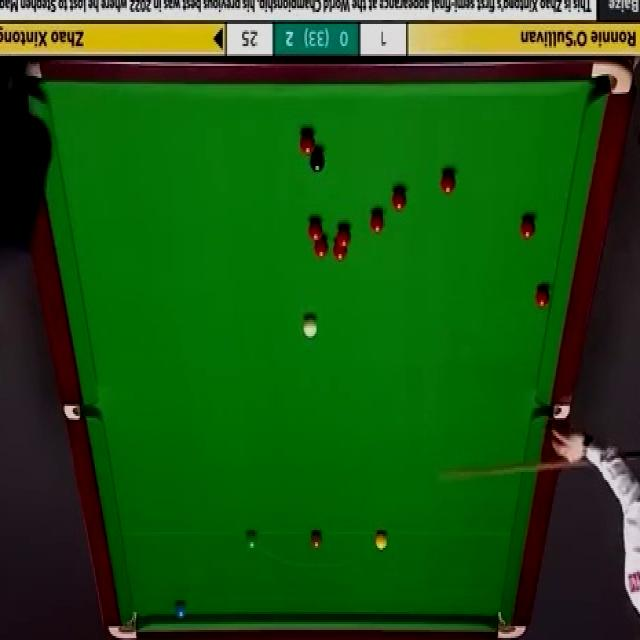black-ball: (309, 145, 326, 174)
blue-ball: (172, 597, 188, 622)
brown-ball: (309, 529, 323, 549)
green-ball: (244, 528, 258, 550)
red-ball: (520, 213, 538, 243), (390, 184, 408, 211), (440, 171, 458, 196), (299, 128, 315, 155), (368, 208, 384, 232), (336, 224, 352, 247), (536, 285, 551, 309), (332, 240, 349, 261), (308, 220, 323, 242), (313, 238, 329, 258)
white-ball: (300, 311, 321, 341)
yellow-ball: (374, 530, 388, 550)
